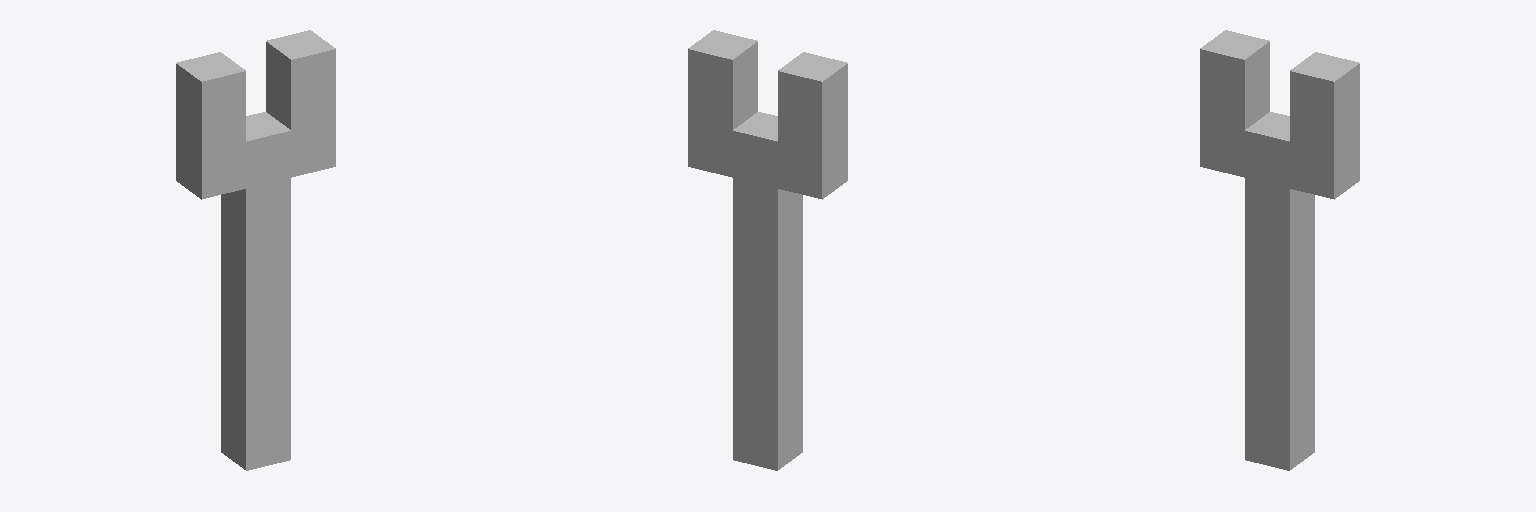
The model's file is wrench.obj.
3 views of the same model, side by side, from view 1: azimuth 30°, elevation 25°; view 2: azimuth 150°, elevation 25°; view 3: azimuth 330°, elevation 25° (orthographic).
Visible parts, largest first — view 1: cube; view 2: cube; view 3: cube.
Part boxes in pixels (left/top/right/bottom): cube: left=176, top=30, right=335, bottom=470; cube: left=688, top=30, right=847, bottom=470; cube: left=1200, top=30, right=1359, bottom=470.
Size of the model in its own units: 0.375 by 1.06 by 0.125.